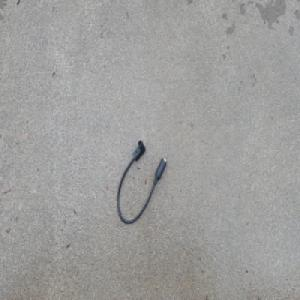Wire: (115, 138, 166, 226)
